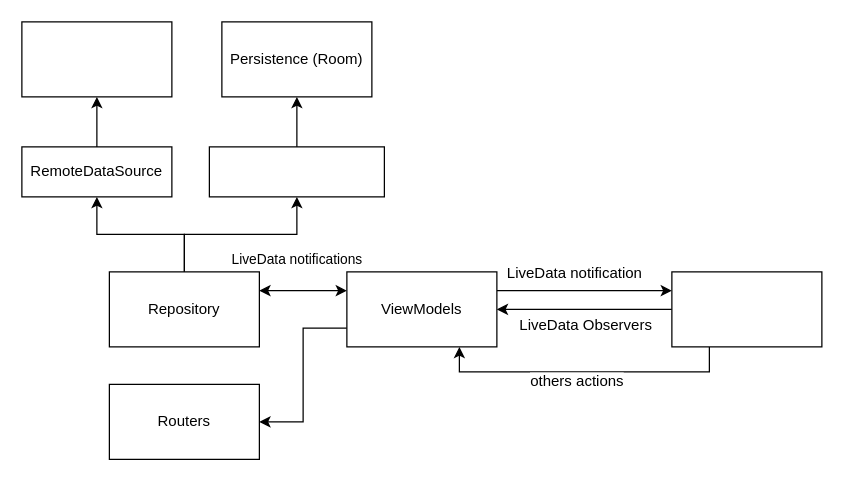
Image size: 844x481. Some labels were removed from this diagram. Here are the shapes that lost their labels. From the top down, the box of each, then its label:
(21, 21, 172, 97): Remote (Retrofit)
(208, 146, 384, 197): PersistenceDataSource
(671, 271, 822, 347): Views (Activities & Fragments)
